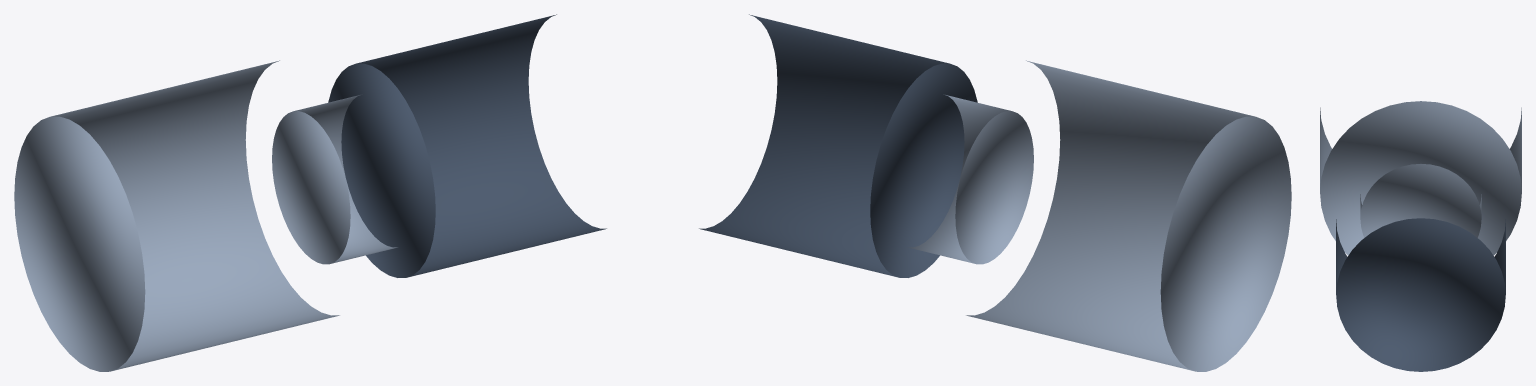
Rendered from croqui-116037.glb.
3 renders of one model, left to right at view 1: azimuth 30°, elevation 25°; view 2: azimuth 150°, elevation 25°; view 3: azimuth 270°, elevation 25°, orthographic. The views are drawn at different scales.
Bounding box in the file's own units: 3.7 × 1.67 × 1.67.
